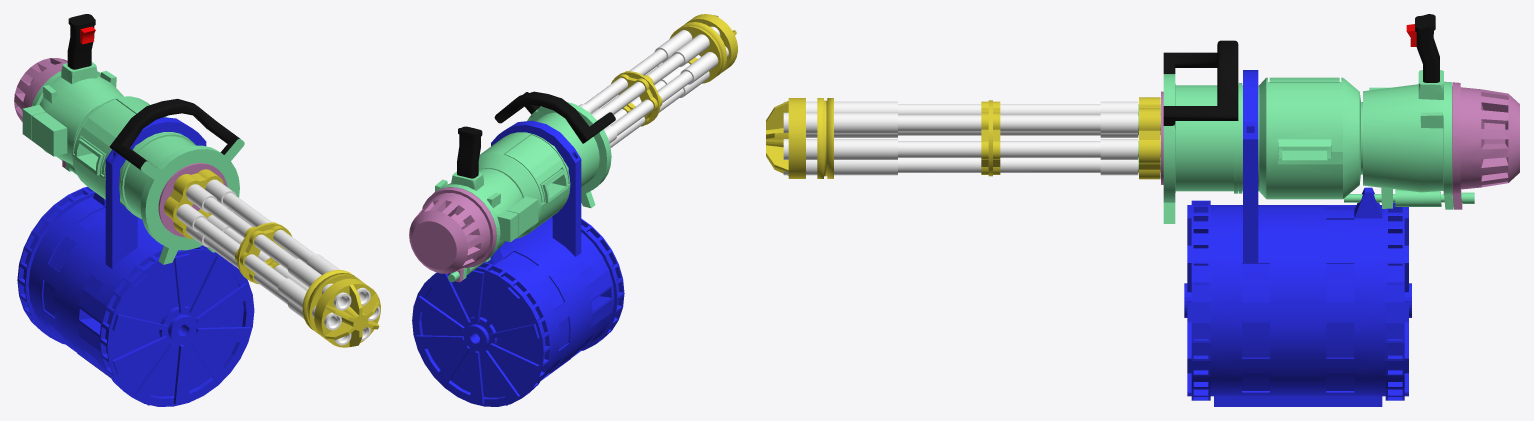
3 renders of one model, left to right at view 1: azimuth 30°, elevation 25°; view 2: azimuth 150°, elevation 25°; view 3: azimuth 270°, elevation 25°, orthographic. The views are drawn at different scales.
Visible parts, largest first — view 1: Ammodrum, Body, Barrel; view 2: Ammodrum, Body, Barrel; view 3: Ammodrum, Body, Barrel.
Boxes of the visible parts, x1,y1,x2,y2 form: Ammodrum: (17, 117, 254, 406); Body: (14, 14, 244, 264); Barrel: (158, 163, 380, 347); Ammodrum: (412, 120, 624, 406); Body: (409, 91, 615, 282); Barrel: (579, 14, 737, 147); Ammodrum: (1184, 70, 1411, 406); Body: (1163, 14, 1519, 223); Barrel: (766, 91, 1163, 184).
Size of the model in its own units: 9.4 by 19.3 by 35.32.
